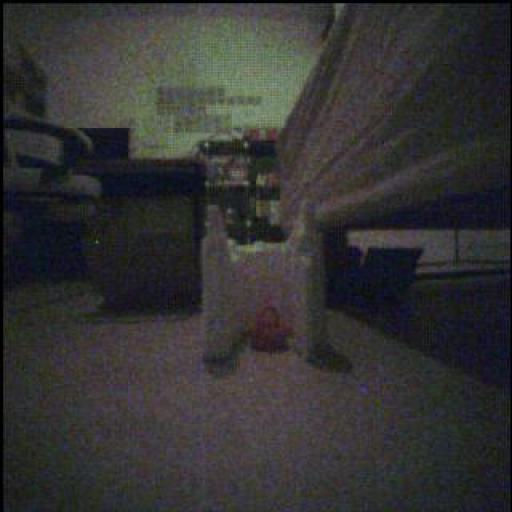basket: (251, 306, 289, 356)
